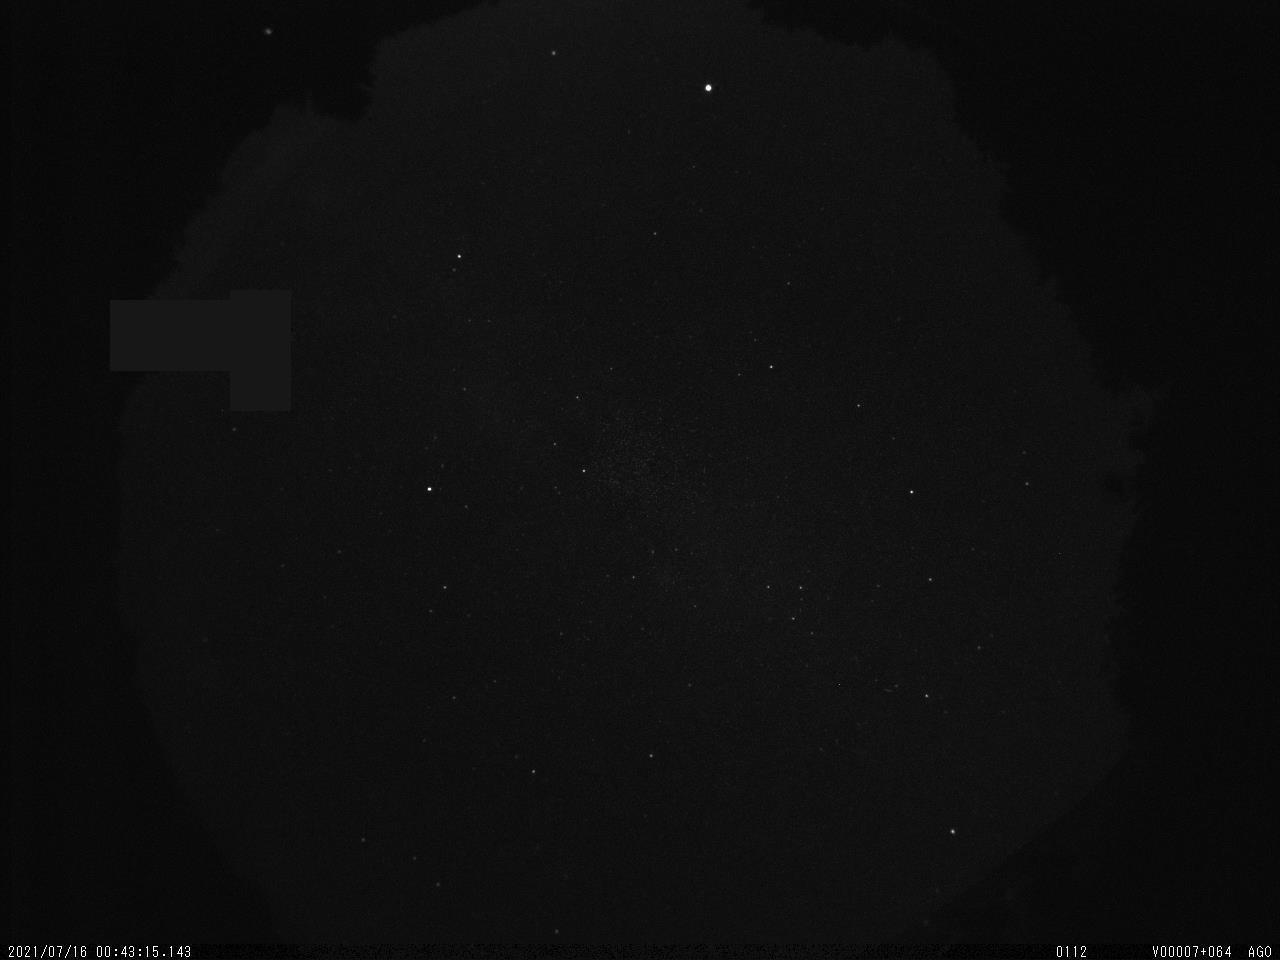meteor: (187, 348, 232, 371)
